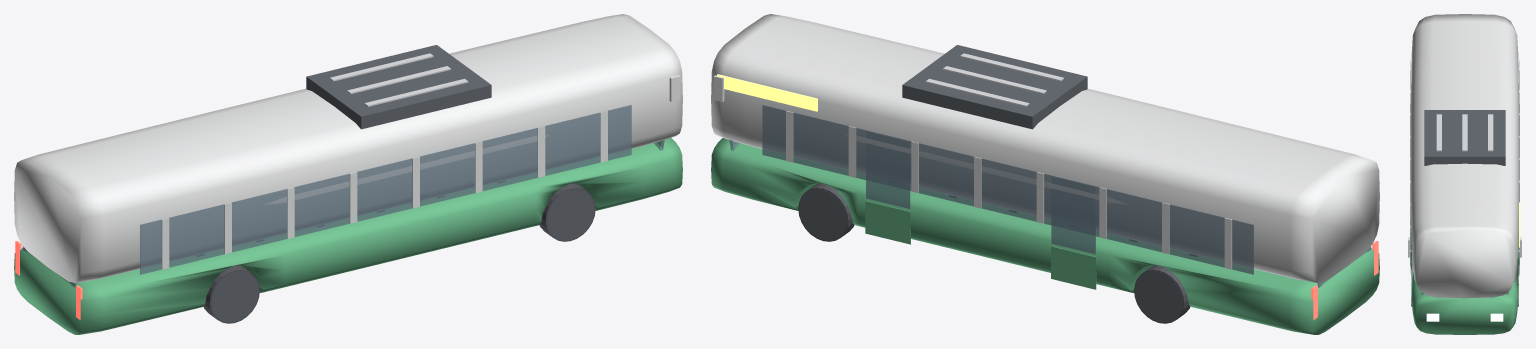
The model's file is bus.glb.
3 renders of one model, left to right at view 1: azimuth 30°, elevation 25°; view 2: azimuth 150°, elevation 25°; view 3: azimuth 270°, elevation 25°, orthographic. The views are drawn at different scales.
Visible parts, largest first — view 1: VehicleBus; view 2: VehicleBus; view 3: VehicleBus.
Part boxes in pixels (left/top/right/bottom): VehicleBus: left=14, top=14, right=682, bottom=334; VehicleBus: left=711, top=14, right=1379, bottom=334; VehicleBus: left=1408, top=14, right=1521, bottom=334.
Size of the model in its own units: 1.2 by 0.3205 by 0.267.
